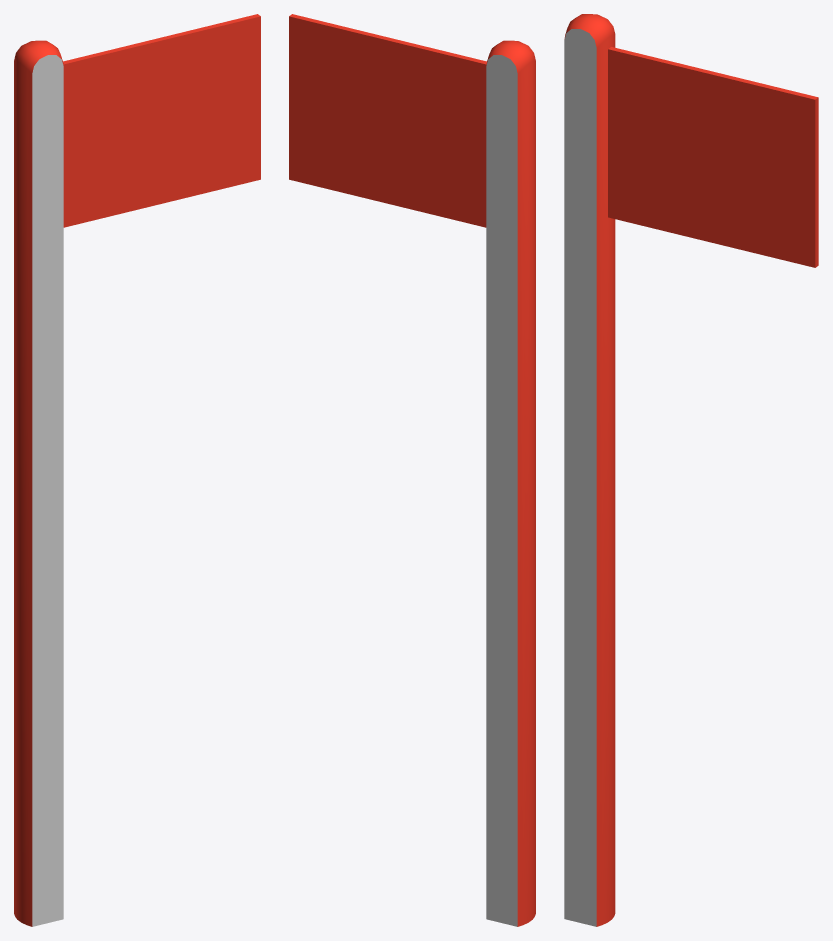
Rendered from Flag Red.fbx.
3 views of the same model, side by side, from view 1: azimuth 30°, elevation 25°; view 2: azimuth 150°, elevation 25°; view 3: azimuth 330°, elevation 25° (orthographic). The views are drawn at different scales.
Visible parts, largest first — view 1: Flag Red; view 2: Flag Red; view 3: Flag Red.
Part boxes in pixels (x1,y1,x2,y2): Flag Red: (14, 14, 260, 926); Flag Red: (289, 14, 535, 926); Flag Red: (564, 14, 818, 926).
Size of the model in its own units: 53.38 by 186 by 7.
